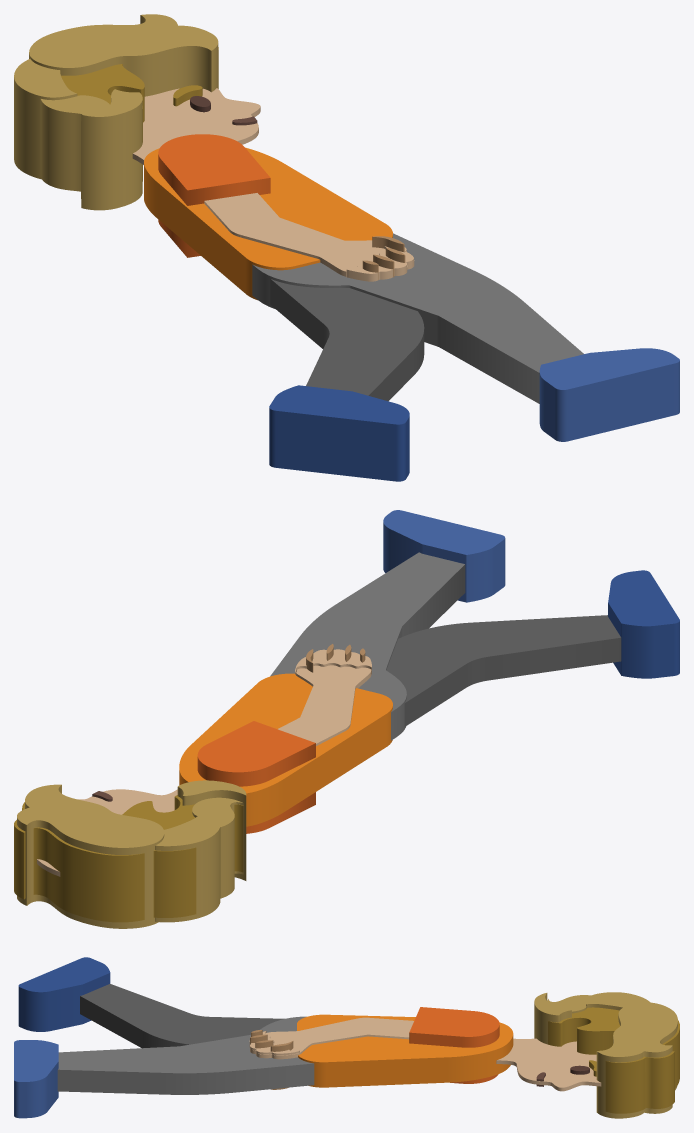
The model's file is emoji_u1f6b6_1f3fc_200d_27a1.glb.
The picture shows the model from 3 angles, top to bottom: view 1: azimuth 30°, elevation 25°; view 2: azimuth 150°, elevation 25°; view 3: azimuth 270°, elevation 25°; orthographic projection. The views are drawn at different scales.
Parts seen in each view (by area): view 1: emoji_u1f6b6_1f3fc_200d_27a1; view 2: emoji_u1f6b6_1f3fc_200d_27a1; view 3: emoji_u1f6b6_1f3fc_200d_27a1.
Boxes of the visible parts, x1,y1,x2,y2 form: emoji_u1f6b6_1f3fc_200d_27a1: (14, 14, 679, 481); emoji_u1f6b6_1f3fc_200d_27a1: (14, 510, 679, 928); emoji_u1f6b6_1f3fc_200d_27a1: (14, 957, 679, 1118).
Size of the model in its own units: 0.0145 by 0.0036 by 0.0333.
